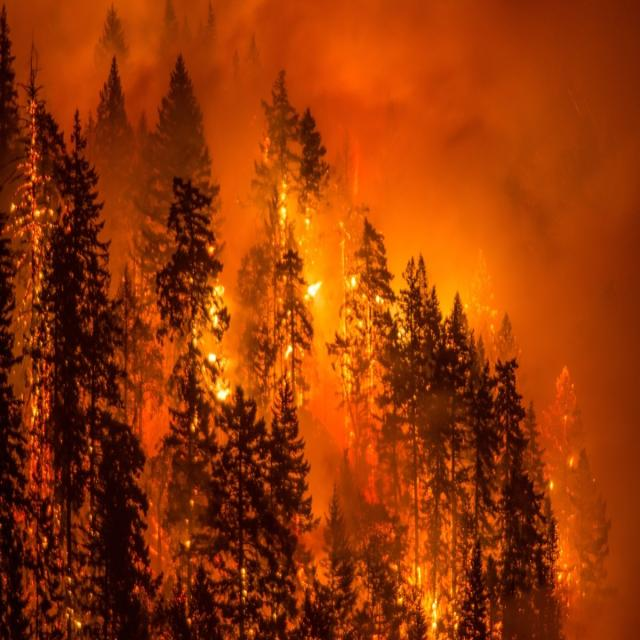Fire: (19, 94, 59, 449), (180, 225, 248, 426), (265, 188, 319, 310)
Smoke: (0, 0, 640, 583)
